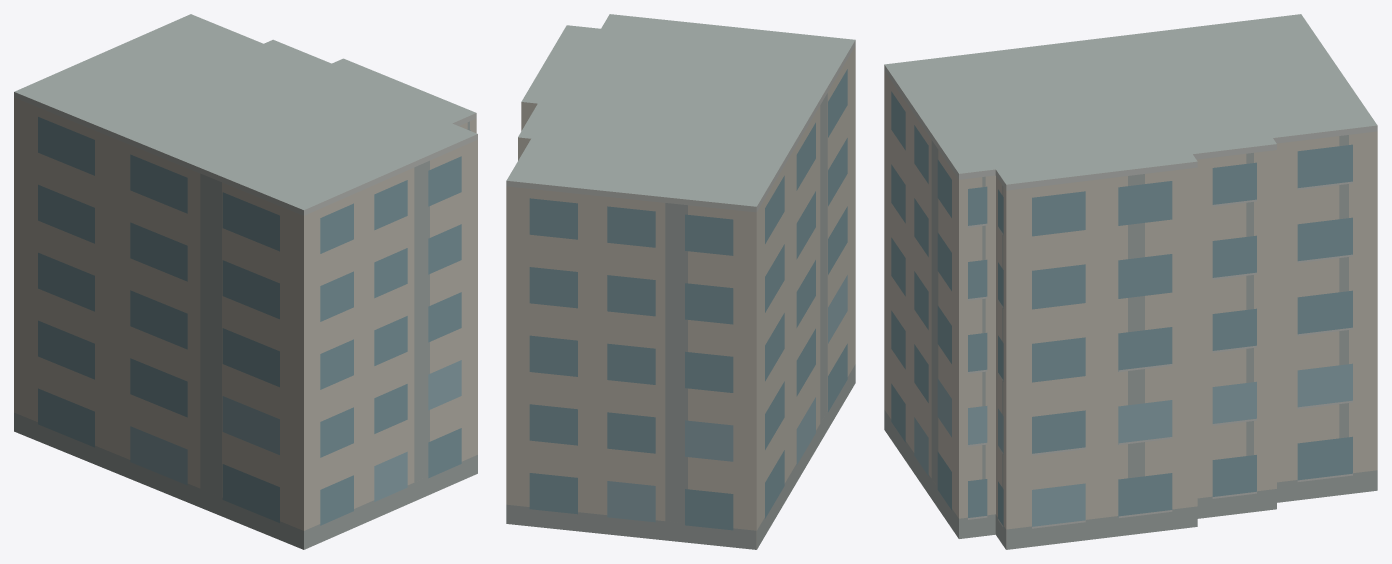
The model's file is survey-upis-32763869.glb.
3 renders of one model, left to right at view 1: azimuth 30°, elevation 25°; view 2: azimuth 150°, elevation 25°; view 3: azimuth 270°, elevation 25°, orthographic. The views are drawn at different scales.
Visible parts, largest first — view 1: survey-upis-32763869.tmp; view 2: survey-upis-32763869.tmp; view 3: survey-upis-32763869.tmp.
Part boxes in pixels (x1=…): survey-upis-32763869.tmp: x1=14, y1=14, x2=477, y2=549; survey-upis-32763869.tmp: x1=506, y1=14, x2=855, y2=549; survey-upis-32763869.tmp: x1=884, y1=14, x2=1377, y2=549.
Bounding box in the file's own units: 14.94 × 14.9 × 18.25.
